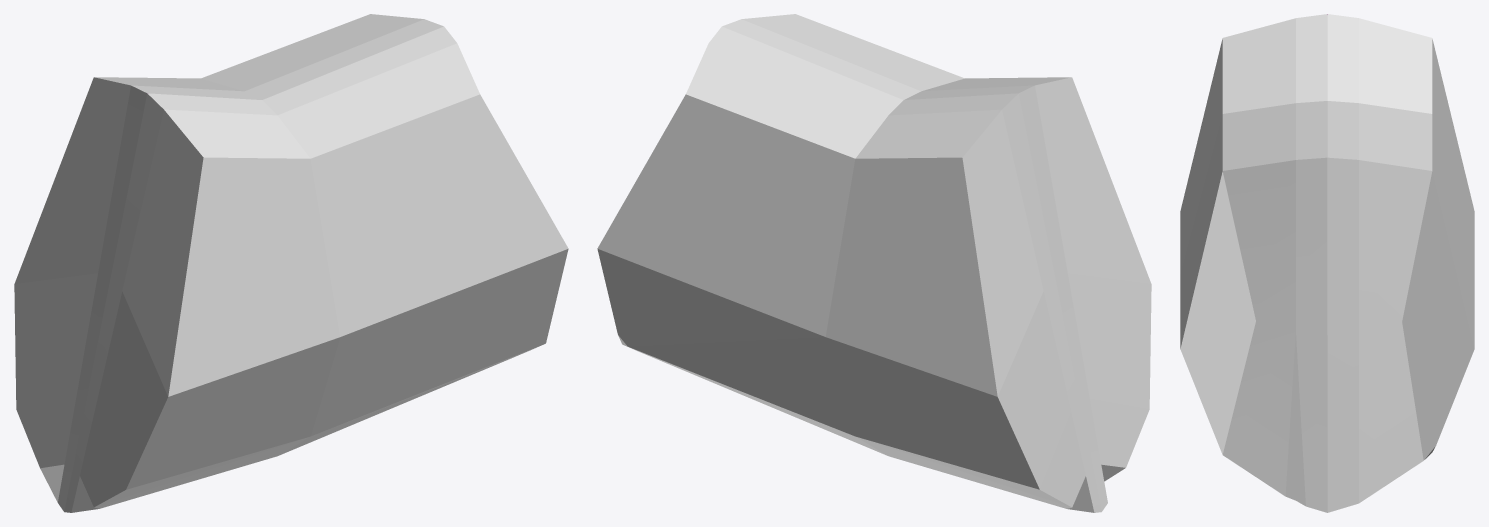
Rendered from Unicon_Separate_MidBody.fbx.
The picture shows the model from 3 angles, left to right: view 1: azimuth 30°, elevation 25°; view 2: azimuth 150°, elevation 25°; view 3: azimuth 270°, elevation 25°; orthographic projection. The views are drawn at different scales.
Parts seen in each view (by area): view 1: Unicon_Separate_MidBody; view 2: Unicon_Separate_MidBody; view 3: Unicon_Separate_MidBody.
Boxes of the visible parts, x1,y1,x2,y2 form: Unicon_Separate_MidBody: [14, 14, 568, 512]; Unicon_Separate_MidBody: [597, 14, 1151, 512]; Unicon_Separate_MidBody: [1180, 14, 1474, 512].
Bounding box in the file's own units: 1.45 × 1.23 × 0.8595.
